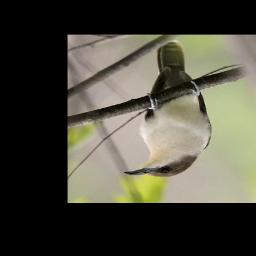Cuckoo: (123, 39, 212, 178)
